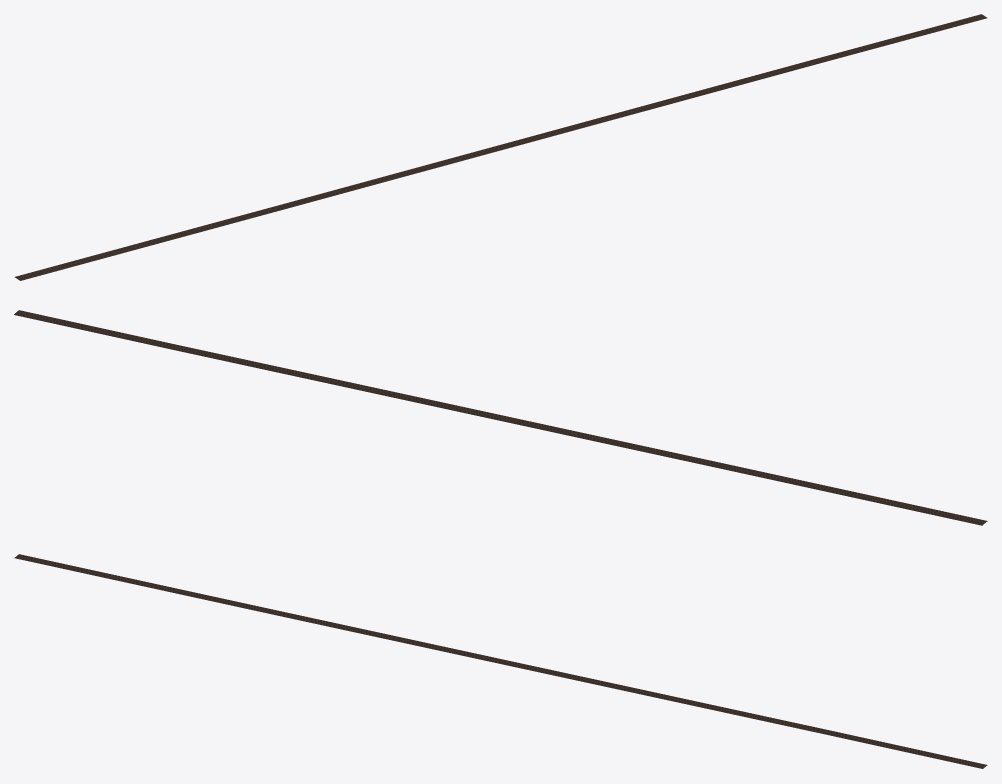
File: kobe_0015.glb
3 views of the same model, one above another, from view 1: azimuth 30°, elevation 25°; view 2: azimuth 150°, elevation 25°; view 3: azimuth 330°, elevation 25° (orthographic). The views are drawn at different scales.
Visible parts, largest first — view 1: ballast_top, oxidised_rail_profiles; view 2: ballast_top, oxidised_rail_profiles, ballast_left; view 3: ballast_top, oxidised_rail_profiles.
Boxes of the visible parts, bbox=[...] form: ballast_top: bbox=[14, 14, 987, 280]; oxidised_rail_profiles: bbox=[15, 14, 986, 279]; ballast_top: bbox=[14, 310, 987, 524]; oxidised_rail_profiles: bbox=[15, 310, 986, 524]; ballast_left: bbox=[14, 314, 982, 525]; ballast_top: bbox=[14, 554, 987, 768]; oxidised_rail_profiles: bbox=[15, 554, 986, 768].
Size of the model in its own units: 755 by 0.819 by 44.22.
Materials: 4 (3 with a texture image).
